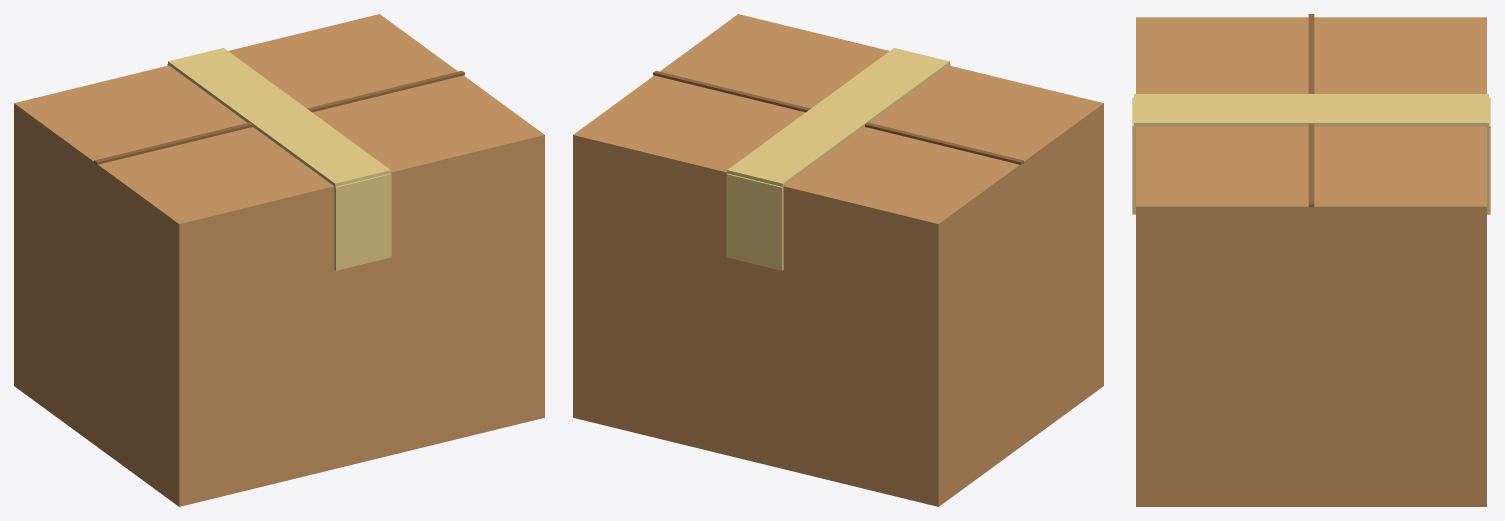
Rendered from CardboardBox.glb.
3 views of the same model, side by side, from view 1: azimuth 30°, elevation 25°; view 2: azimuth 150°, elevation 25°; view 3: azimuth 270°, elevation 25° (orthographic). The views are drawn at different scales.
Visible parts, largest first — view 1: CardboardBox_Body, CardboardBox_Tape, CardboardBox_TapeF, CardboardBox_Seam; view 2: CardboardBox_Body, CardboardBox_Tape, CardboardBox_TapeB, CardboardBox_Seam; view 3: CardboardBox_Body, CardboardBox_Tape, CardboardBox_Seam, CardboardBox_TapeB, CardboardBox_TapeF.
Part boxes in pixels (box(x1,y1,x2,y2)): CardboardBox_Body: box(14, 14, 544, 506); CardboardBox_Tape: box(168, 48, 390, 186); CardboardBox_TapeF: box(334, 173, 391, 270); CardboardBox_Seam: box(94, 70, 464, 164); CardboardBox_Body: box(573, 14, 1103, 506); CardboardBox_Tape: box(727, 48, 949, 186); CardboardBox_TapeB: box(726, 173, 783, 270); CardboardBox_Seam: box(653, 70, 1023, 164); CardboardBox_Body: box(1136, 17, 1486, 506); CardboardBox_Tape: box(1134, 94, 1488, 126); CardboardBox_Seam: box(1308, 14, 1314, 207); CardboardBox_TapeB: box(1487, 97, 1490, 214); CardboardBox_TapeF: box(1132, 97, 1135, 214).
Bounding box in the file's own units: 0.463 × 0.344 × 0.368.
